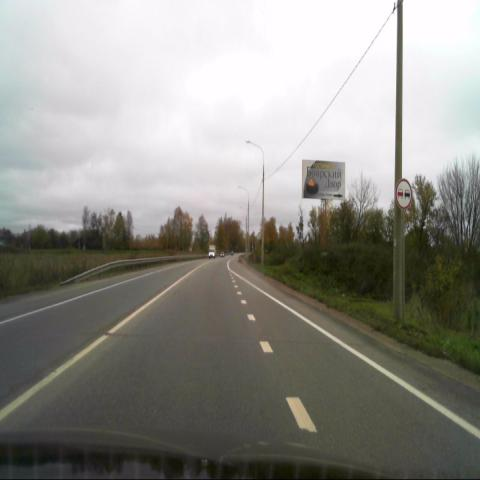3_20: (395, 178, 412, 209)
